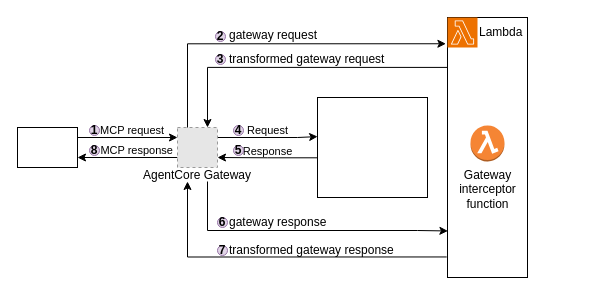
This 595x295 diagram has some shape labels left out. Grey dashed boxes stand in for pictures. Here are the shapes that lost their labels. From the top down, the centre of each, then its label:
the point at 47,147: MCP Client
the point at 372,147: Targets (Lambda, API Gateway, OpenAPI schema, MCP Servers...)
